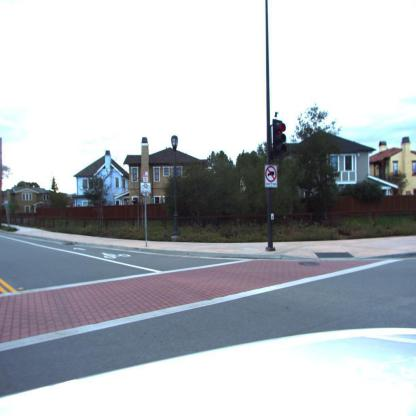traffic light: (272, 122, 287, 160)
